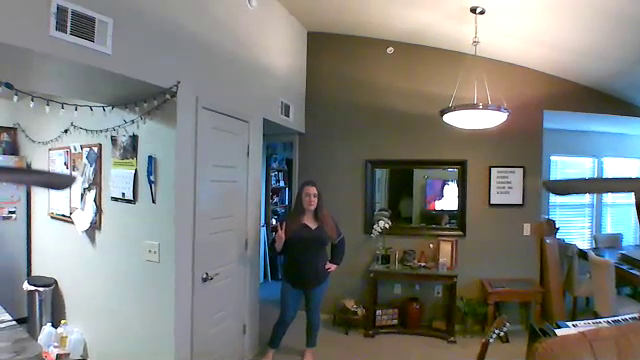peace: (270, 218, 294, 253)
